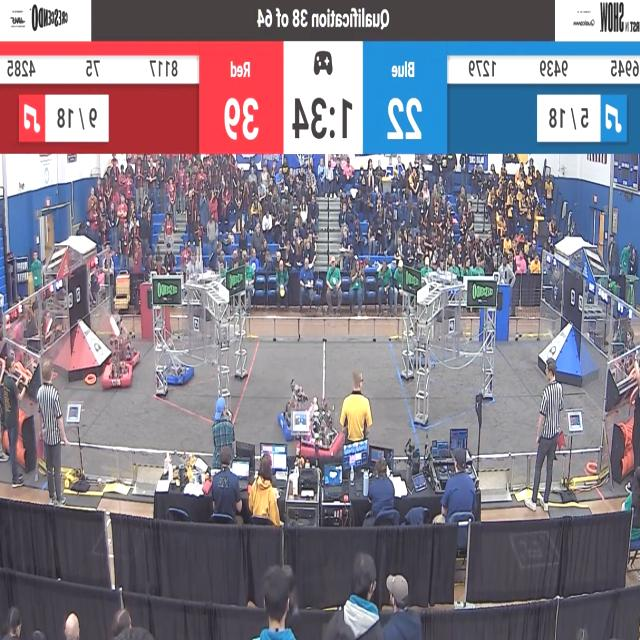Robot: (298, 392, 340, 460), (276, 375, 308, 442), (107, 313, 140, 370), (159, 336, 194, 384), (101, 339, 132, 391), (417, 340, 438, 364)
